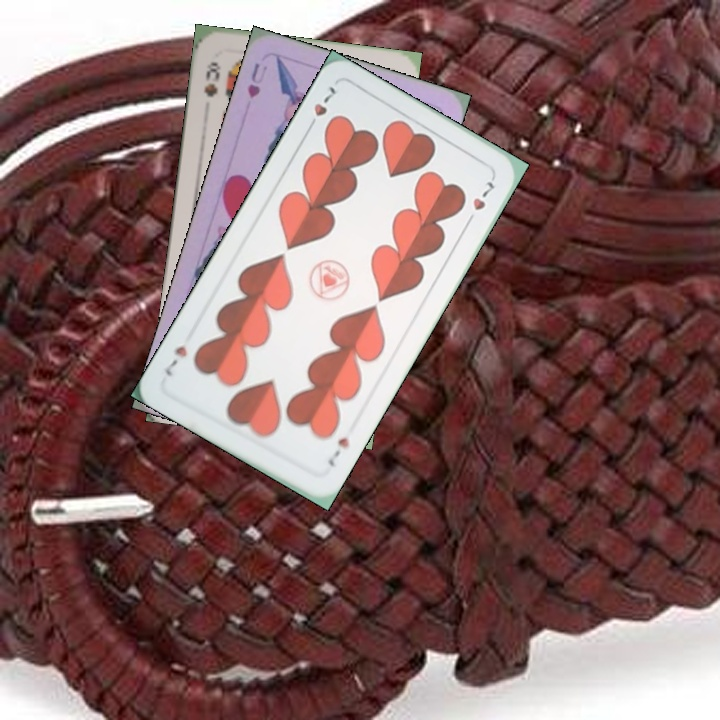H7: (302, 82, 338, 134), (323, 433, 352, 470)
HU: (243, 59, 270, 101)
S8: (200, 57, 223, 100)
